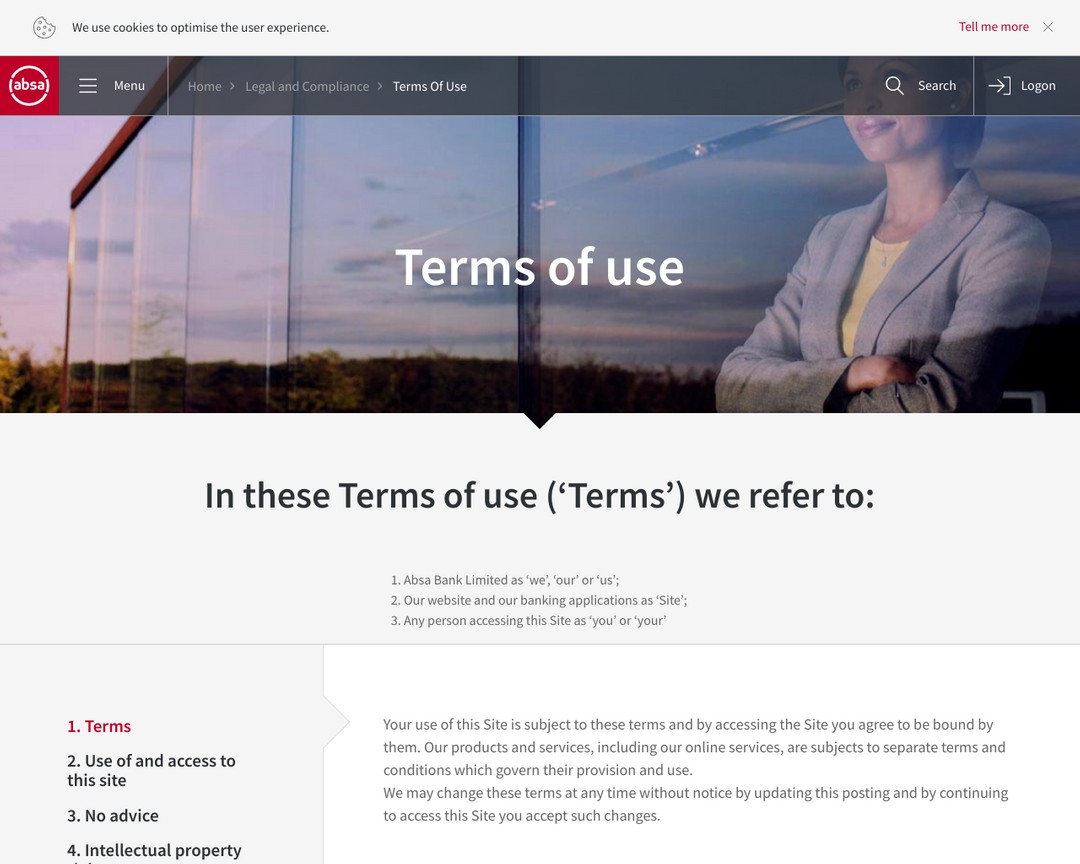ABSA: (6, 64, 52, 107)
